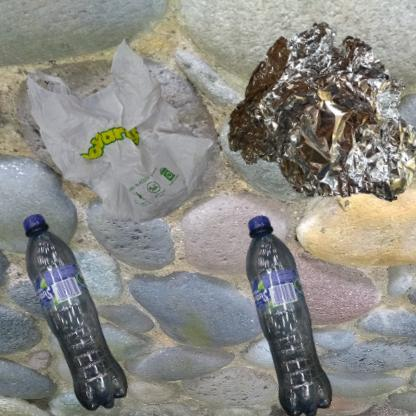aluminio: (213, 10, 416, 224)
bolsa: (10, 10, 269, 293)
botella: (213, 213, 375, 416), (10, 213, 142, 416)
